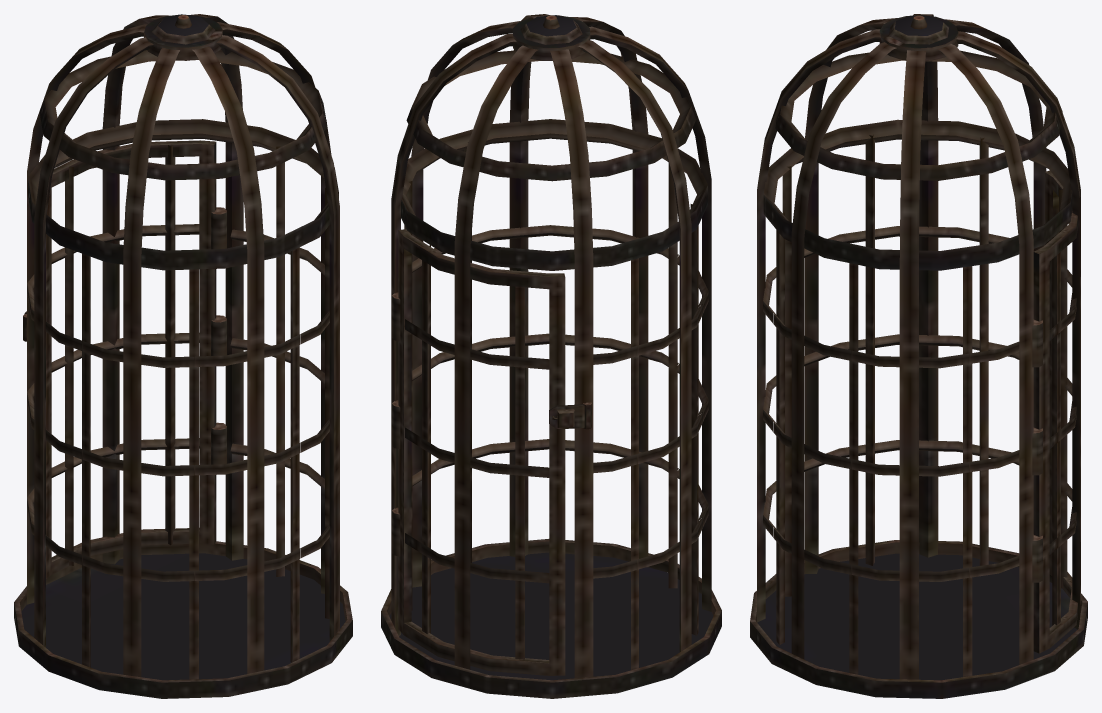
File: o_mdl_env_propCageMediumA-transformed.glb
The picture shows the model from 3 angles, left to right: view 1: azimuth 30°, elevation 25°; view 2: azimuth 150°, elevation 25°; view 3: azimuth 270°, elevation 25°; orthographic projection.
Visible parts, largest first — view 1: default; view 2: default; view 3: default.
Boxes of the visible parts, box(x1,y1,x2,y2) form: default: box(14, 14, 352, 698); default: box(381, 14, 721, 698); default: box(750, 14, 1087, 698).
Bounding box in the file's own units: 1.45 × 2.89 × 1.45.
Materials: 2 (2 with a texture image).
